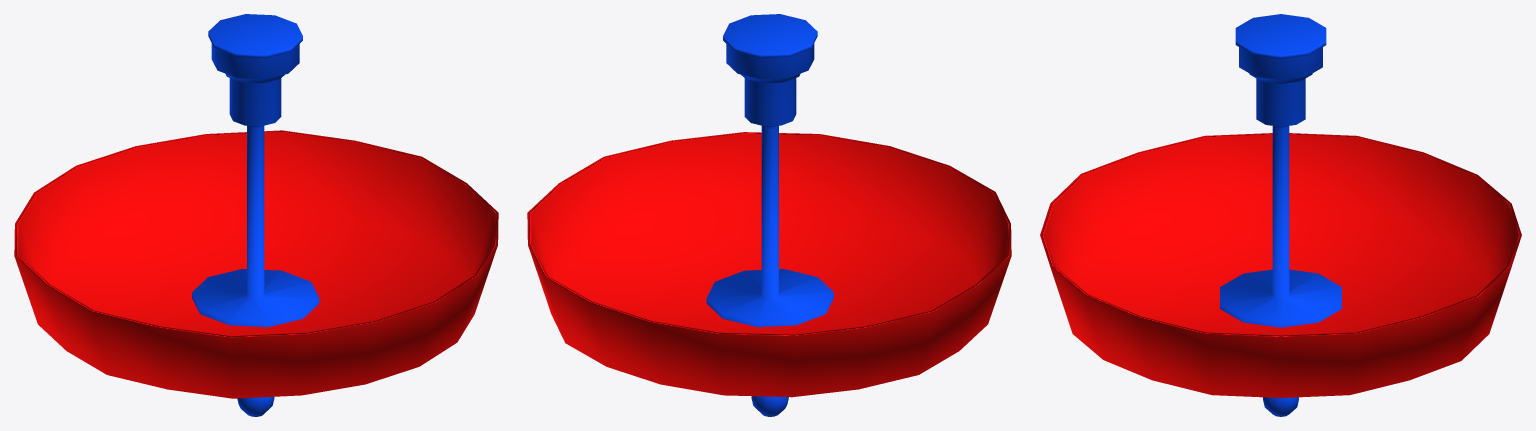
Rendered from Deckenlampe_runder.fbx.
3 renders of one model, left to right at view 1: azimuth 30°, elevation 25°; view 2: azimuth 150°, elevation 25°; view 3: azimuth 270°, elevation 25°, orthographic.
Parts seen in each view (by area): view 1: Glas, Metall; view 2: Glas, Metall; view 3: Glas, Metall.
Boxes of the visible parts, <box> form: Glas: <box>14,130,498,398</box>; Metall: <box>192,14,319,416</box>; Glas: <box>527,132,1011,397</box>; Metall: <box>706,14,833,416</box>; Glas: <box>1040,133,1521,397</box>; Metall: <box>1220,14,1341,416</box>.
Size of the model in its own units: 4.14 by 3.57 by 4.11.
